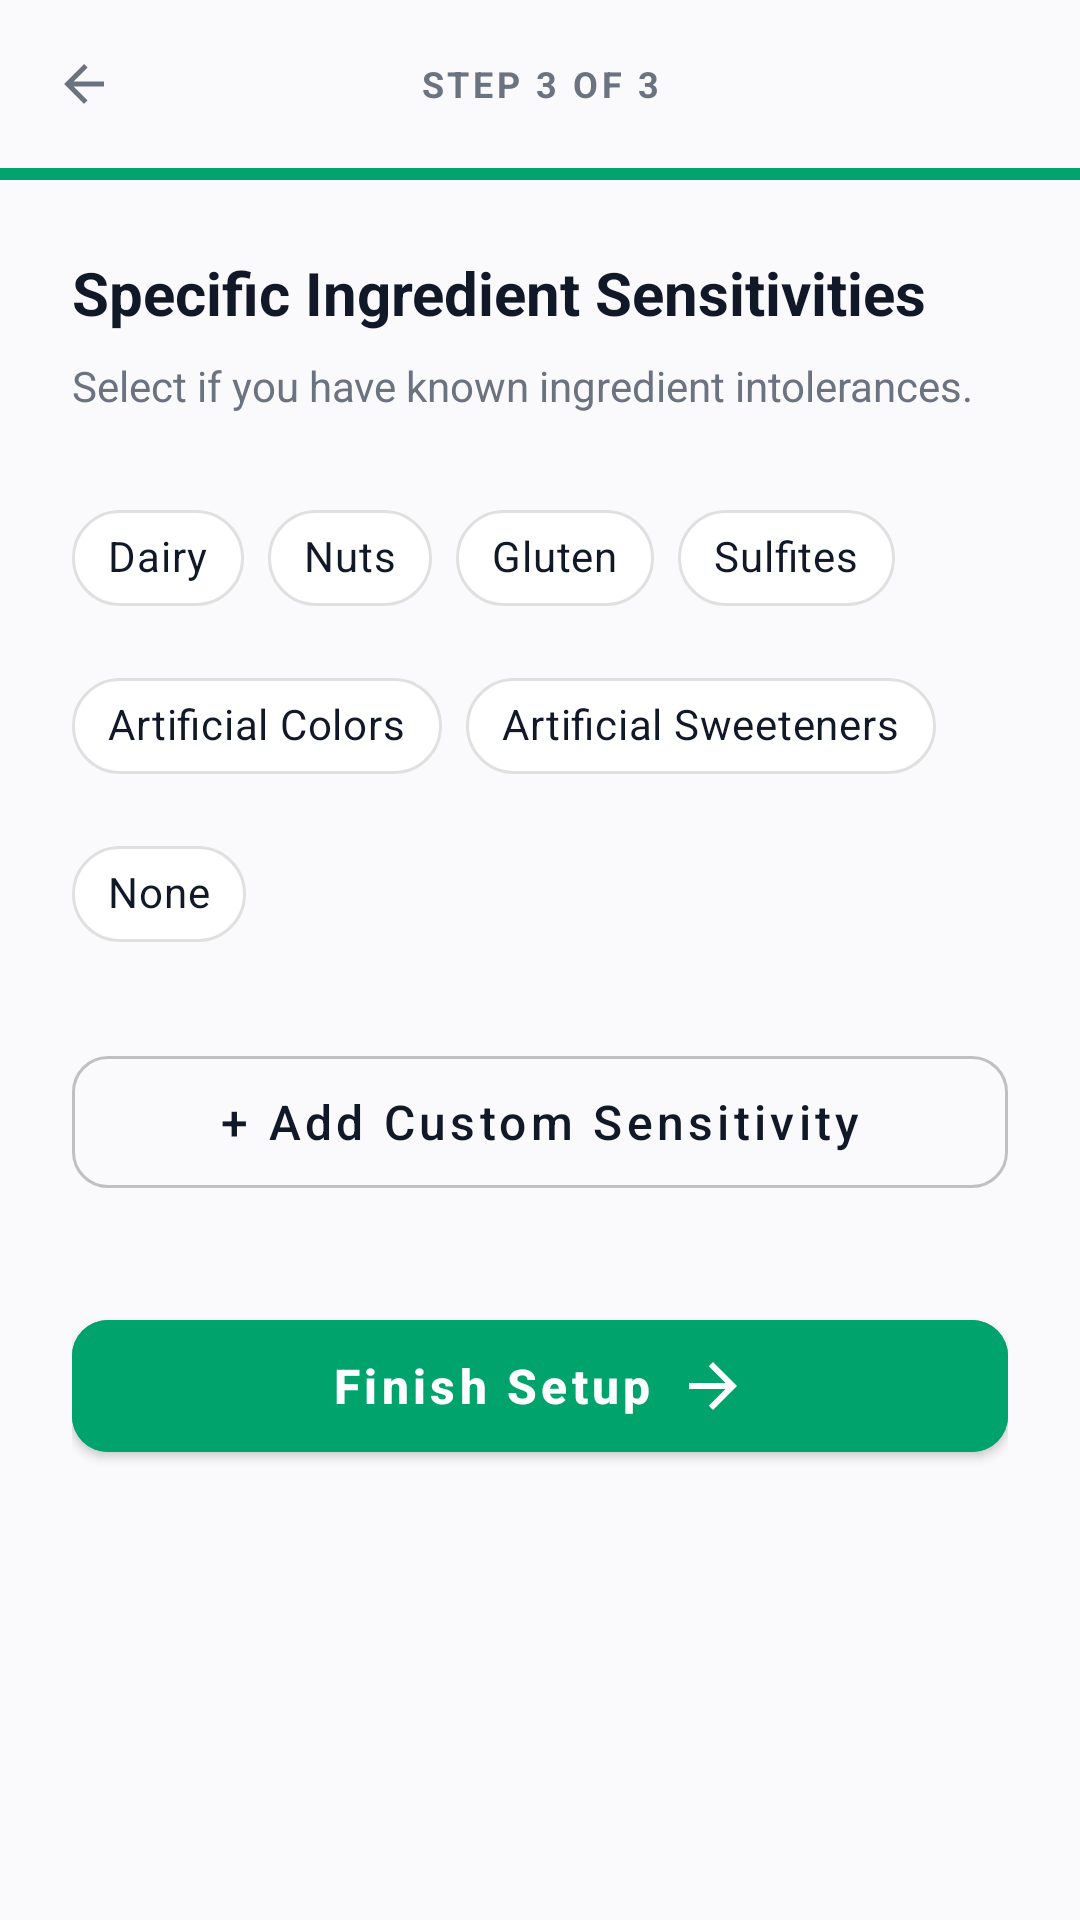

Icon click points for this 1080*1920 phone screenshot, format [x,y]:
arrow back: [84,84]
